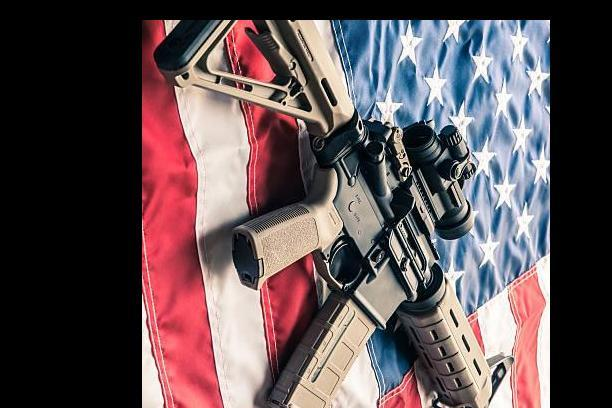larga: (153, 20, 516, 408)
